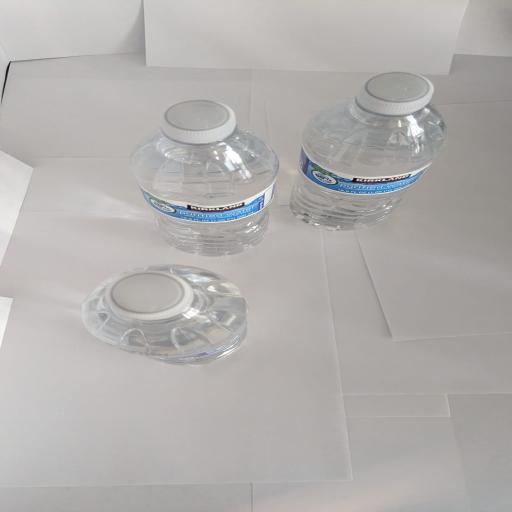waterbottle: (291, 73, 445, 230), (131, 101, 278, 255), (83, 265, 247, 364)
